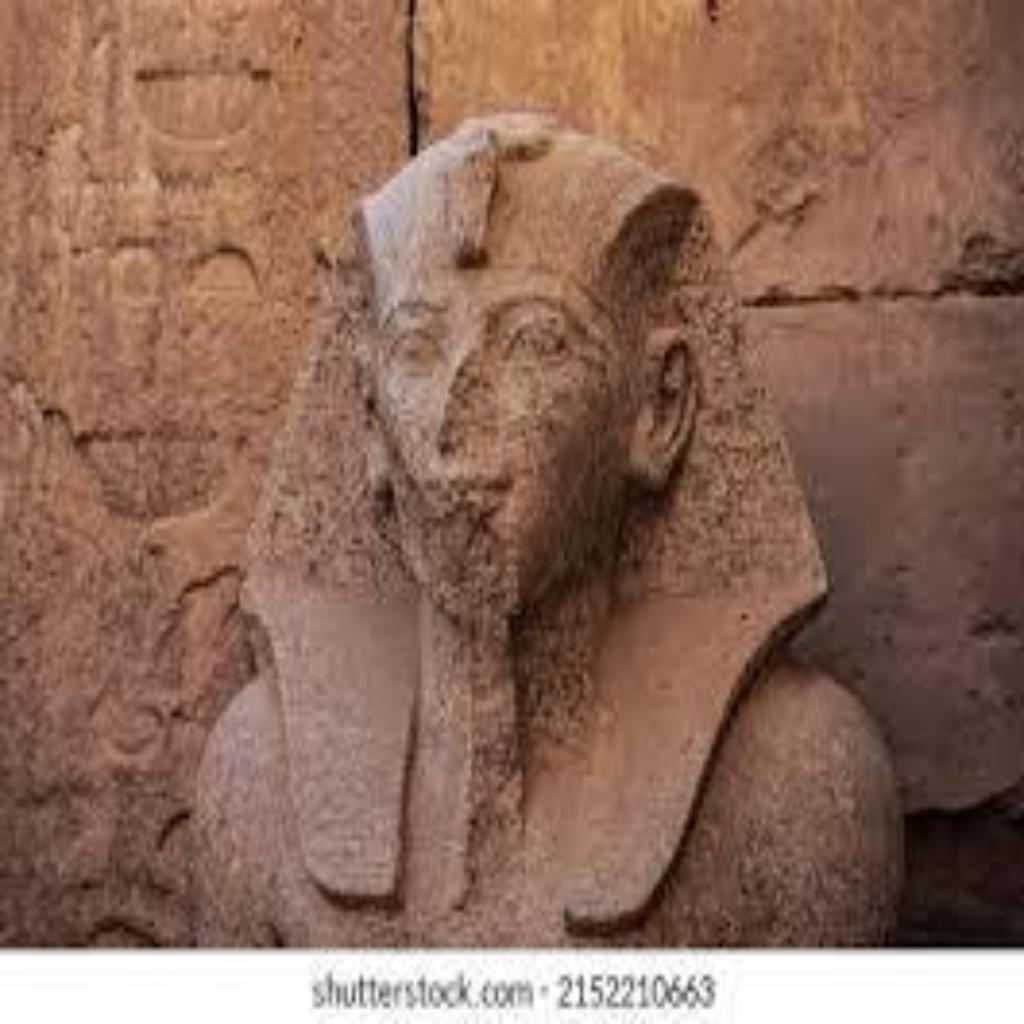King Thutmose III: (186, 102, 904, 944)
